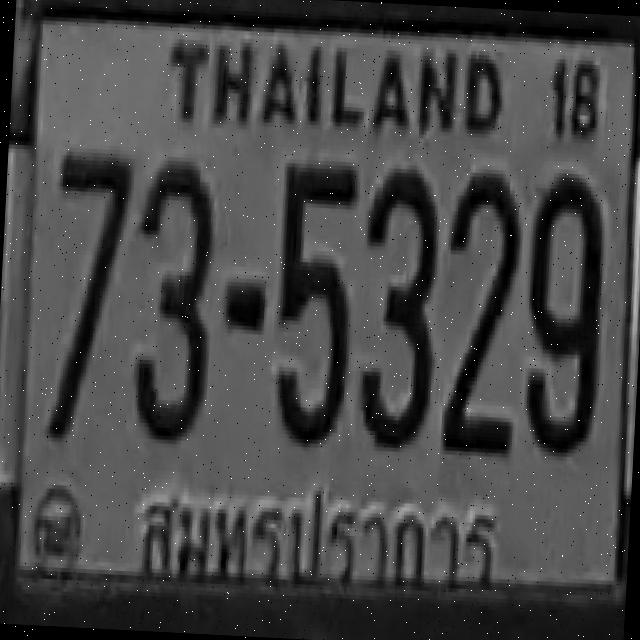2: (438, 172, 520, 454)
3: (127, 156, 215, 442), (354, 163, 440, 450)
5: (269, 159, 355, 445)
7: (43, 148, 132, 442)
9: (520, 170, 606, 452)
SamutPrakan: (124, 466, 511, 608)
